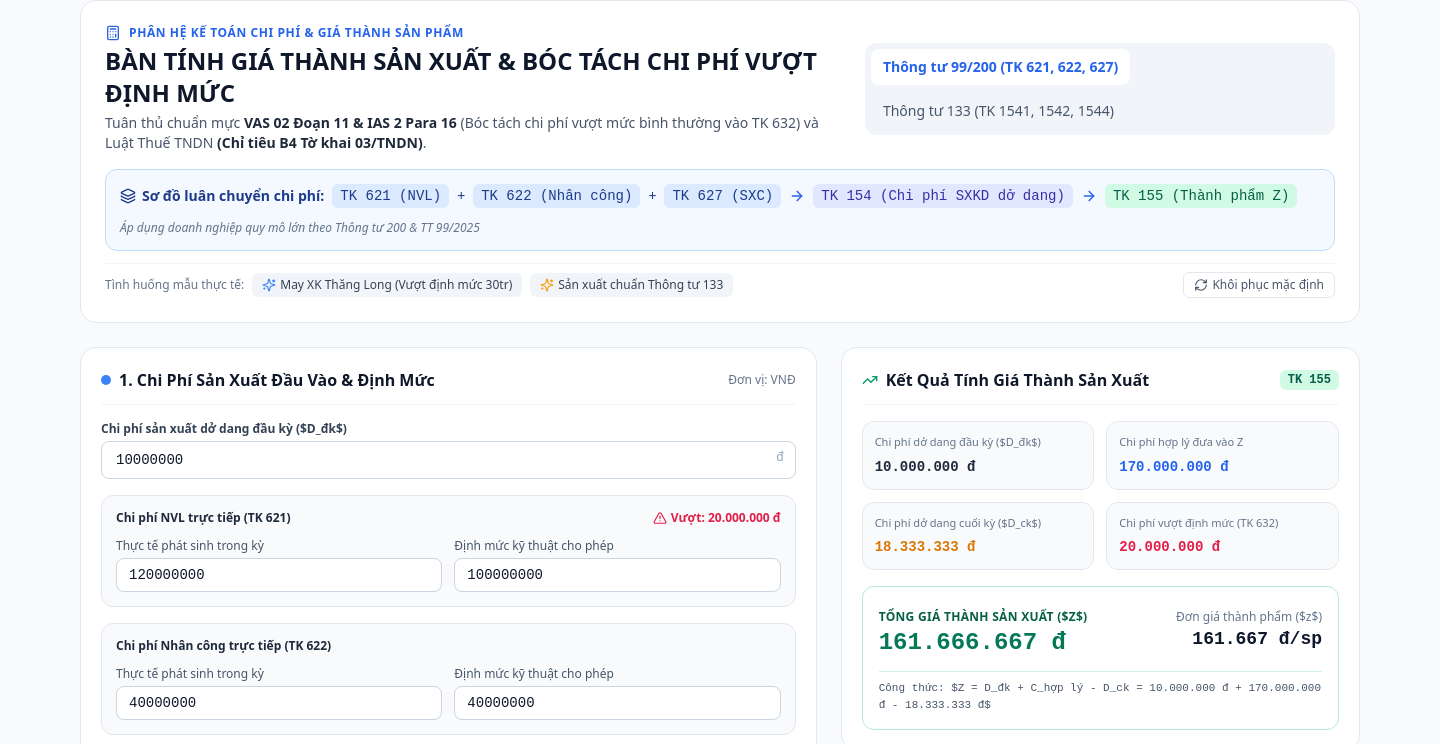
Test: Manufacturing Cost Workbench & Abnormal Waste Calculator (ManufacturingCostCalculator.tsx) › T3.2: Switches between Circular 99/200 mode (accounts 621, 622, 627) and Circular 133 mode (sub-accounts 1541, 1542, 1544)
This screenshot has width=1440, height=744.
Expected: the element with test id "coa-flow-indicator" shows "TK 621 (NVL)", 340,188 -> 441,204
Expected: the element with test id "coa-flow-indicator" shows "TK 622 (Nhân công)", 481,188 -> 632,204
// Switch to Circular 133
Click the button with test id "regime-btn-CIRCULAR_133": (998, 111) 871,93 -> 1126,129
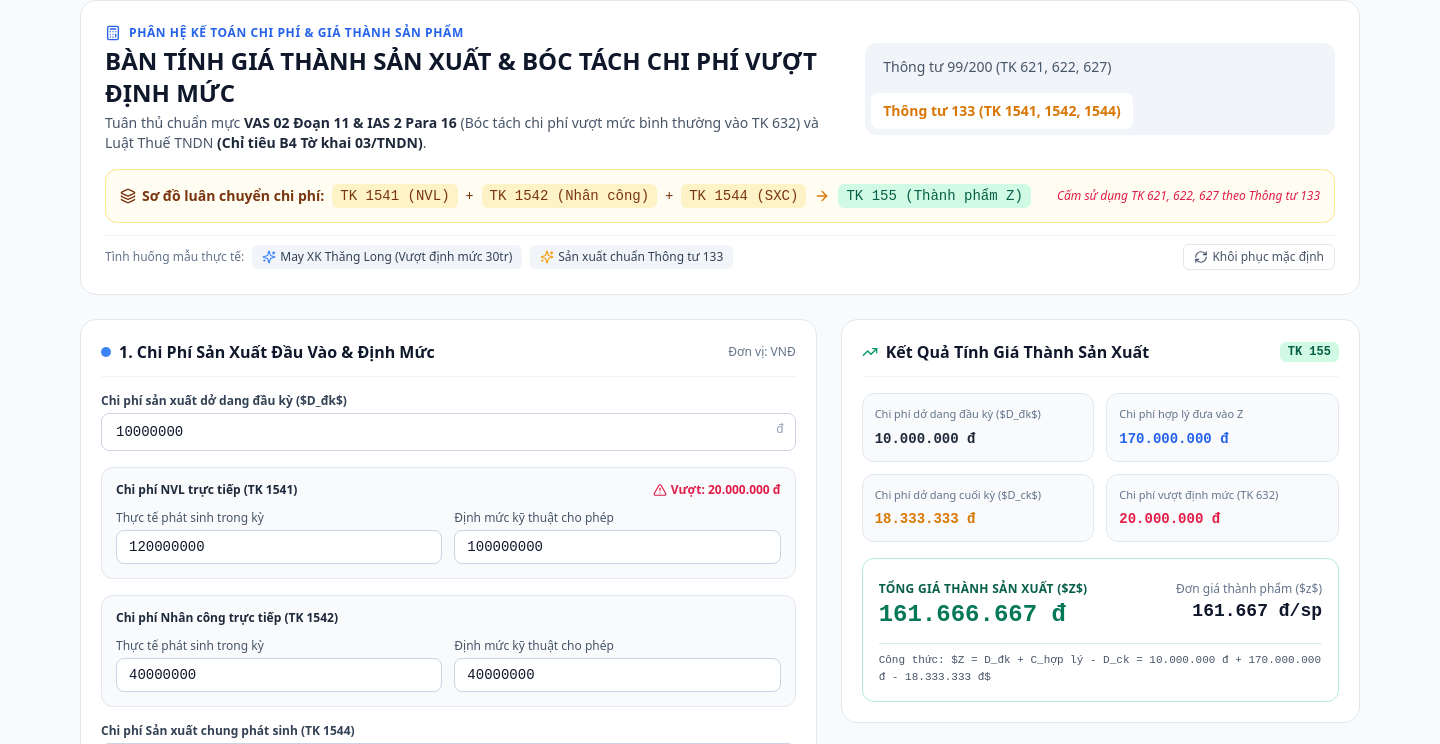
Expected: the element with test id "coa-flow-indicator" shows "TK 1541 (NVL)", 340,188 -> 450,204
Expected: the element with test id "coa-flow-indicator" shows "TK 1542 (Nhân công)", 490,188 -> 649,204
Expected: the element with test id "coa-flow-indicator" shows "TK 1544 (SXC)", 689,188 -> 798,204
// Switch back to Circular 200
Click the button with test id "regime-btn-CIRCULAR_200": (997, 67) 871,49 -> 1123,85
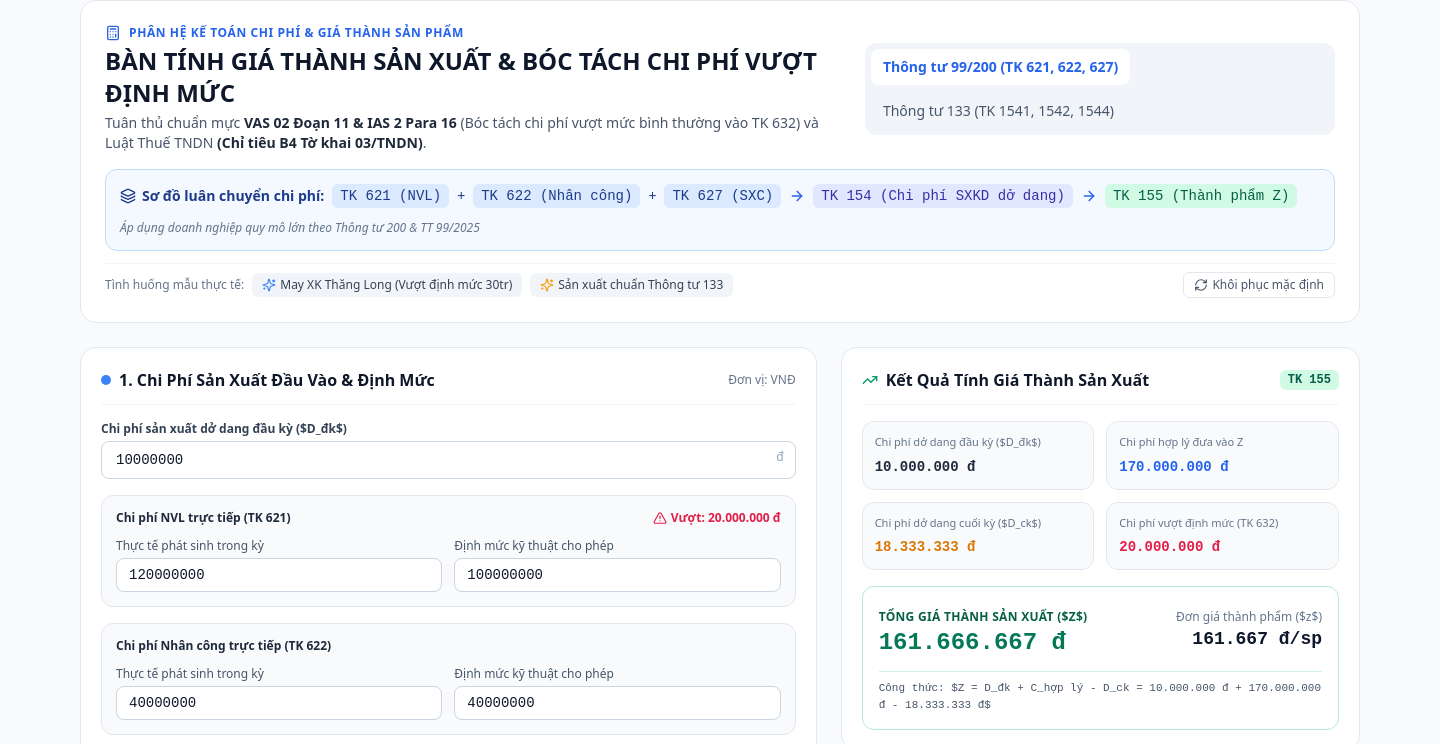
Expected: the element with test id "coa-flow-indicator" shows "TK 621 (NVL)", 340,188 -> 441,204
